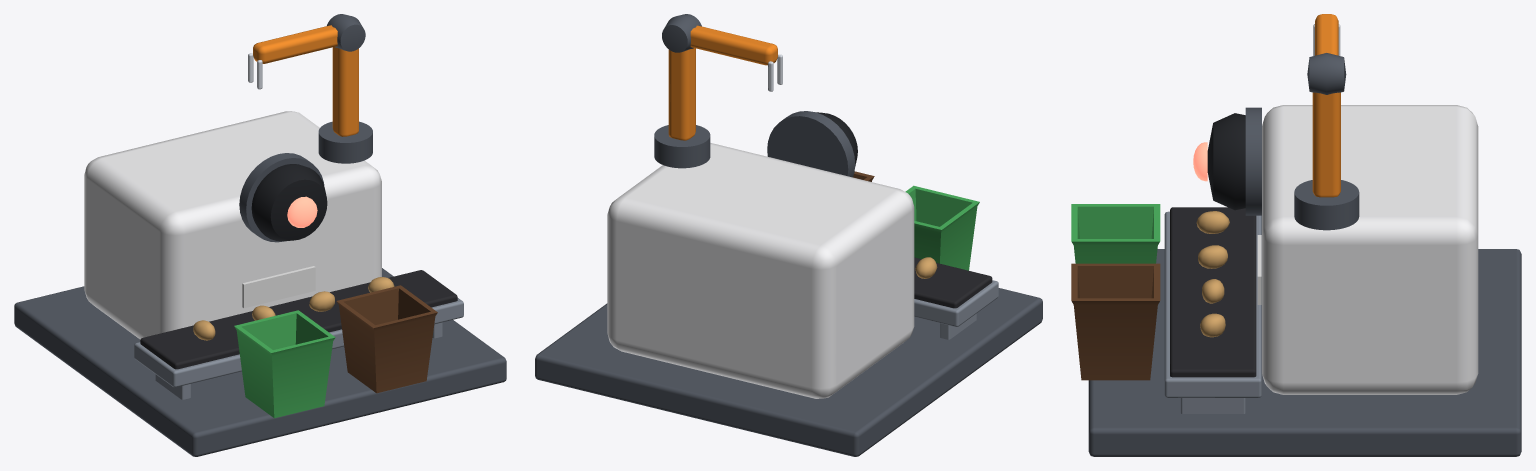
The model's file is AiSorter.fbx.
3 renders of one model, left to right at view 1: azimuth 30°, elevation 25°; view 2: azimuth 150°, elevation 25°; view 3: azimuth 270°, elevation 25°, orthographic. The views are drawn at different scales.
Parts seen in each view (by area): view 1: Body__White, Body__MetalDark, Body__WoodDark, Body__Green, Body__Rubber, Arm__Orange, Body__Black, Body__Steel, Arm__MetalDark, Body__NeonCyan!1, Body__Potato, Lens__NeonRed; view 2: Body__White, Body__MetalDark, Arm__Orange, Body__Green, Arm__MetalDark, Body__Rubber, Body__Steel; view 3: Body__White, Body__MetalDark, Body__Rubber, Body__WoodDark, Body__Green, Body__Steel, Arm__MetalDark, Arm__Orange, Body__Black, Body__Potato, Lens__NeonRed.
Boxes of the visible parts, box(x1,y1,x2,y2) form: Body__White: box(84, 111, 381, 339); Body__MetalDark: box(14, 153, 506, 456); Body__WoodDark: box(336, 285, 437, 393); Body__Green: box(234, 310, 335, 418); Body__Rubber: box(140, 270, 457, 369); Arm__Orange: box(253, 25, 358, 136); Body__Black: box(251, 164, 327, 241); Body__Steel: box(134, 298, 463, 399); Arm__MetalDark: box(318, 14, 372, 163); Body__NeonCyan!1: box(242, 266, 315, 308); Body__Potato: box(193, 277, 394, 340); Lens__NeonRed: box(287, 196, 317, 227); Body__White: box(607, 143, 914, 398); Body__MetalDark: box(535, 111, 1042, 456); Arm__Orange: box(668, 25, 777, 140); Body__Green: box(905, 185, 979, 270); Arm__MetalDark: box(654, 14, 710, 168); Body__Rubber: box(914, 257, 992, 308); Body__Steel: box(914, 280, 998, 339); Body__White: box(1262, 105, 1478, 394); Body__MetalDark: box(1088, 107, 1521, 456); Body__Rubber: box(1170, 207, 1256, 377); Body__WoodDark: box(1071, 263, 1160, 380); Body__Green: box(1071, 204, 1160, 263); Body__Steel: box(1164, 211, 1261, 413); Arm__MetalDark: box(1294, 53, 1359, 230); Arm__Orange: box(1312, 14, 1340, 197); Body__Black: box(1207, 113, 1245, 210); Body__Potato: box(1196, 211, 1229, 337); Lens__NeonRed: box(1193, 142, 1207, 181).
Size of the model in its own units: 4 by 4.25 by 4.16.
